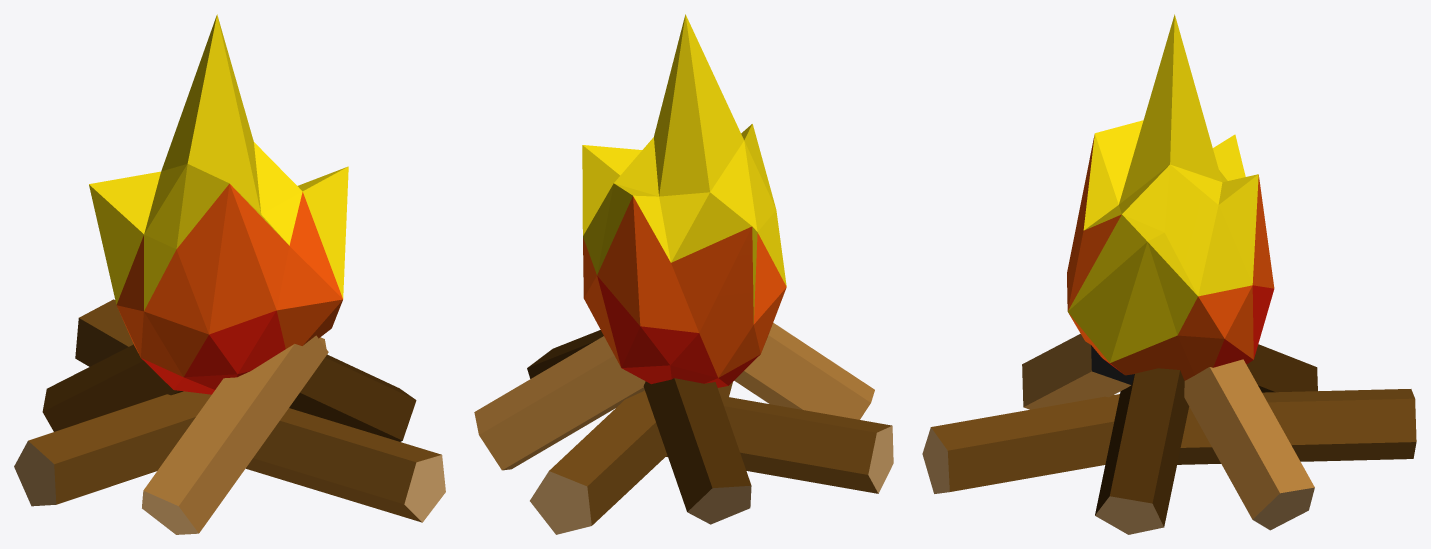
Rendered from Campfire.obj.
The picture shows the model from 3 angles, left to right: view 1: azimuth 30°, elevation 25°; view 2: azimuth 150°, elevation 25°; view 3: azimuth 270°, elevation 25°; orthographic projection.
Parts seen in each view (by area): view 1: Campfire_Cylinder.014; view 2: Campfire_Cylinder.014; view 3: Campfire_Cylinder.014.
Boxes of the visible parts, bbox=[...] form: Campfire_Cylinder.014: bbox=[14, 14, 445, 534]; Campfire_Cylinder.014: bbox=[474, 14, 893, 534]; Campfire_Cylinder.014: bbox=[922, 14, 1416, 534].
Bounding box in the file's own units: 1.05 × 1.26 × 1.24.
1 material, 1 textured.
